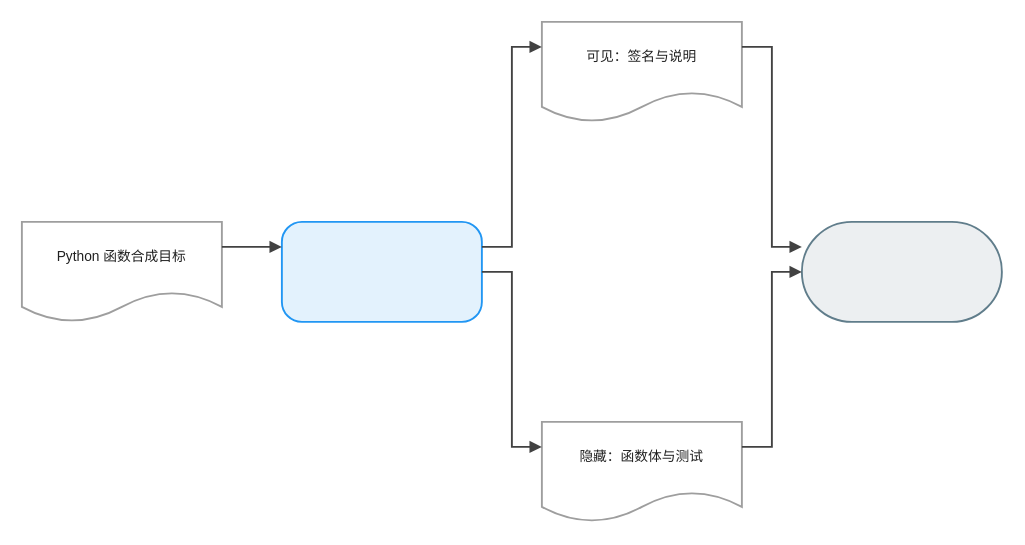
Image size: 1025x545. Some labels were removed from this diagram. The centre of each missing label's shape, as x and y in pixels:
164 题公开发布: (x=901, y=271)
手写原创题目: (x=381, y=271)
